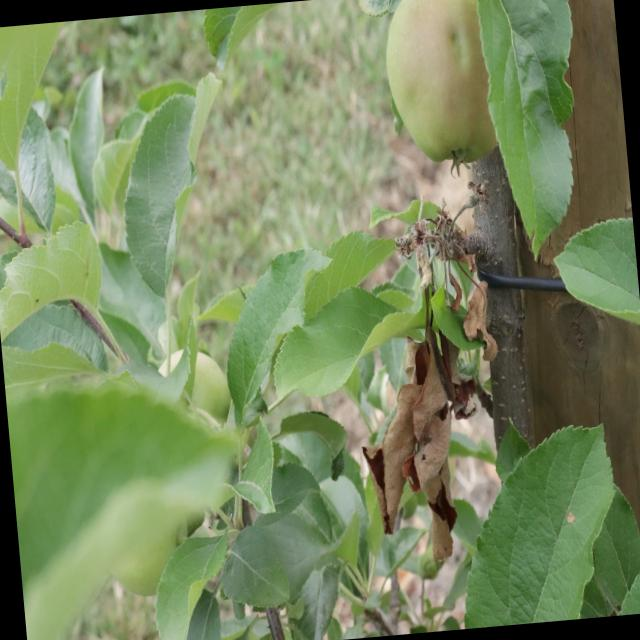-FireBlight-: (352, 225, 504, 571)
